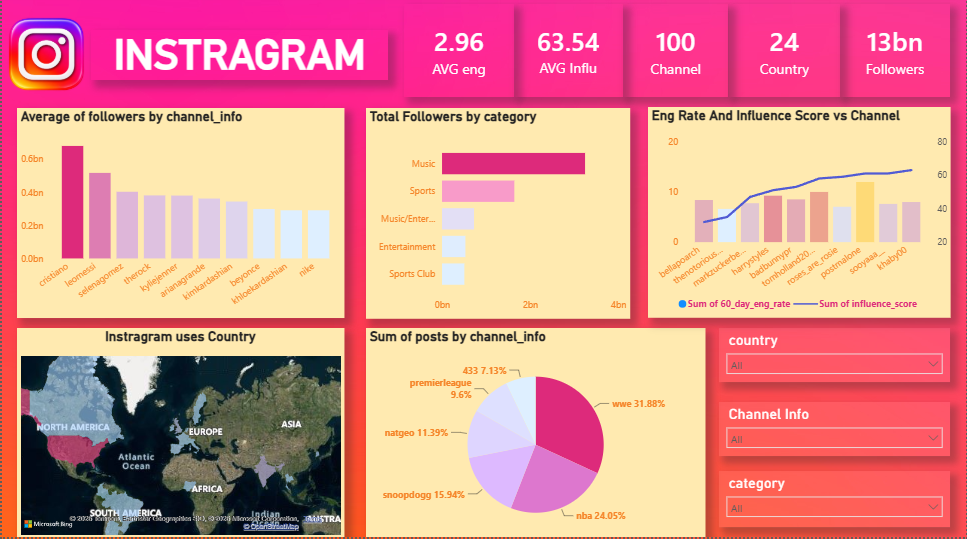

The page's visual inventory and layout, read from the dashboard file:
{"tool":"powerbi","page":{"name":"Page 1","canvas":[1280,720],"ordinal":0},"visuals":[{"type":"cardVisual","fields":{"Data":["Table.AVG eng rate"]},"box":[534.1,11.7,146.3,122.9],"z":0},{"type":"cardVisual","fields":{"Data":["Table.AVG Influence Score"]},"box":[680.5,11.7,144.9,122.9],"z":1000},{"type":"cardVisual","fields":{"Data":["Table.Channel"]},"box":[825.4,11.7,140.5,122.9],"z":2000},{"type":"cardVisual","fields":{"Data":["Table.Country"]},"box":[965.9,11.7,147.8,122.9],"z":3000},{"type":"cardVisual","fields":{"Data":["Table.Total Followers"]},"box":[1113.7,11.7,146.3,122.9],"z":4000},{"type":"clusteredColumnChart","fields":{"Category":["instagram_global_influencers_2026.channel_info"],"Y":["Avg(instagram_global_influencers_2026.followers)"]},"box":[20.5,150.7,435.1,278.8],"z":5000},{"type":"filledMap","title":"Instragram uses Country","fields":{"Category":["instagram_global_influencers_2026.country"]},"box":[20.5,442,434.6,279.5],"z":6000},{"type":"barChart","fields":{"Category":["instagram_global_influencers_2026.category"],"Y":["Table.Total Followers"]},"box":[482.9,150.7,351.2,279.5],"z":7000},{"type":"pieChart","fields":{"Y":["Sum(instagram_global_influencers_2026.posts)"],"Category":["instagram_global_influencers_2026.channel_info"]},"box":[482.9,442,450.7,278],"z":8000},{"type":"lineStackedColumnComboChart","title":"Eng Rate And Influence Score vs Channel","fields":{"Category":["instagram_global_influencers_2026.channel_info"],"Y":["Sum(instagram_global_influencers_2026.60_day_eng_rate)"],"Y2":["Sum(instagram_global_influencers_2026.influence_score)"]},"box":[857.6,149.3,402.4,279.5],"z":9000},{"type":"shape","title":"INSTRAGRAM","box":[118.5,46.8,395.1,67.3],"z":10000},{"type":"image","box":[0,20.5,118.5,114.1],"z":11000},{"type":"slicer","fields":{"Values":["instagram_global_influencers_2026.country"]},"box":[952.7,442,307.3,71.7],"z":12000},{"type":"slicer","fields":{"Values":["instagram_global_influencers_2026.channel_info"]},"box":[952.7,540,307.3,71.7],"z":13000},{"type":"slicer","fields":{"Values":["instagram_global_influencers_2026.category"]},"box":[952.7,632.2,307.3,74.6],"z":14000}]}

Visuals, with their boxes in screenshot pixels (x1, y1, x2, y2), scaled from the page's 1280x720 canvas onto the 967x539 screenshot:
cardVisual - Table.AVG eng rate: 403,9,514,101
cardVisual - Table.AVG Influence Score: 514,9,624,101
cardVisual - Table.Channel: 624,9,730,101
cardVisual - Table.Country: 730,9,841,101
cardVisual - Table.Total Followers: 841,9,952,101
clusteredColumnChart - instagram_global_influencers_2026.channel_info x Avg(instagram_global_influencers_2026.followers): 15,113,344,322
"Instragram uses Country" filledMap: 15,331,344,538
barChart - instagram_global_influencers_2026.category x Table.Total Followers: 365,113,630,322
pieChart - Sum(instagram_global_influencers_2026.posts) x instagram_global_influencers_2026.channel_info: 365,331,705,538
"Eng Rate And Influence Score vs Channel" lineStackedColumnComboChart: 648,112,952,321
"INSTRAGRAM" shape: 90,35,388,85
image: 0,15,90,101
slicer - instagram_global_influencers_2026.country: 720,331,952,385
slicer - instagram_global_influencers_2026.channel_info: 720,404,952,458
slicer - instagram_global_influencers_2026.category: 720,473,952,529
